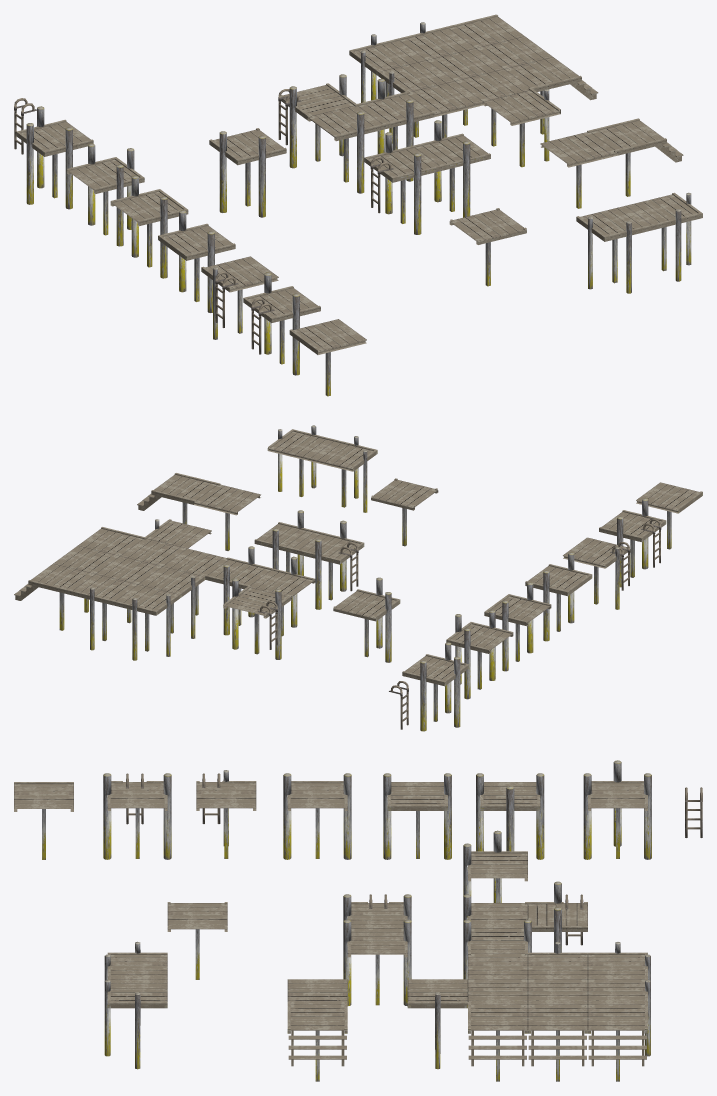
Rendered from DockPieces.obj.
The picture shows the model from 3 angles, top to bottom: view 1: azimuth 30°, elevation 25°; view 2: azimuth 150°, elevation 25°; view 3: azimuth 270°, elevation 25°; orthographic projection. The views are drawn at different scales.
Parts seen in each view (by area): view 1: dock.013, dock.020, dock.018, dock.015, dock.024, dock.025, dock.014, dock.023, dock.017, dock.009, dock.007, dock.026 (+16 smaller); view 2: dock.013, dock.020, dock.025, dock.015, dock.024, dock.018, dock.023, dock.014, dock.004, dock.007, dock.010, dock.009 (+16 smaller); view 3: dock.013, dock.018, dock.015, dock.023, dock.014, dock.017, dock.022, dock.008, dock.002, dock.001, dock.009, dock.024 (+16 smaller).
Boxes of the visible parts, x1,y1,x2,y2 form: dock.013: (16,106,93,209); dock.020: (364,132,441,234); dock.018: (243,272,320,375); dock.015: (67,143,144,246); dock.024: (209,128,286,217); dock.025: (278,74,356,168); dock.014: (110,175,188,278); dock.023: (158,210,235,312); dock.017: (414,120,490,217); dock.009: (625,192,702,281); dock.007: (576,206,653,293); dock.026: (307,104,384,193); dock.013: (402,642,469,731); dock.020: (297,520,364,609); dock.025: (223,578,290,659); dock.015: (446,610,513,699); dock.024: (333,577,400,662); dock.018: (599,498,666,587); dock.023: (525,552,592,641); dock.014: (484,582,551,671); dock.004: (113,584,180,660); dock.007: (310,436,377,512); dock.010: (563,537,630,609); dock.009: (267,425,334,496); dock.013: (583,760,651,859); dock.018: (103,773,171,859); dock.015: (476,773,544,859); dock.023: (283,773,351,859); dock.014: (383,773,451,859); dock.017: (343,919,411,1006); dock.022: (287,1003,347,1081); dock.008: (468,1003,527,1081); dock.002: (588,1003,647,1081); dock.001: (528,1004,587,1081); dock.009: (104,978,167,1069); dock.024: (463,830,527,917).
Bounding box in the file's own units: 153 × 23.02 × 172.
Materials: 2 (2 with a texture image).
